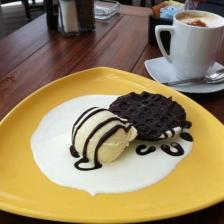ice cream: (68, 105, 128, 165)
waffles: (119, 89, 186, 143)
